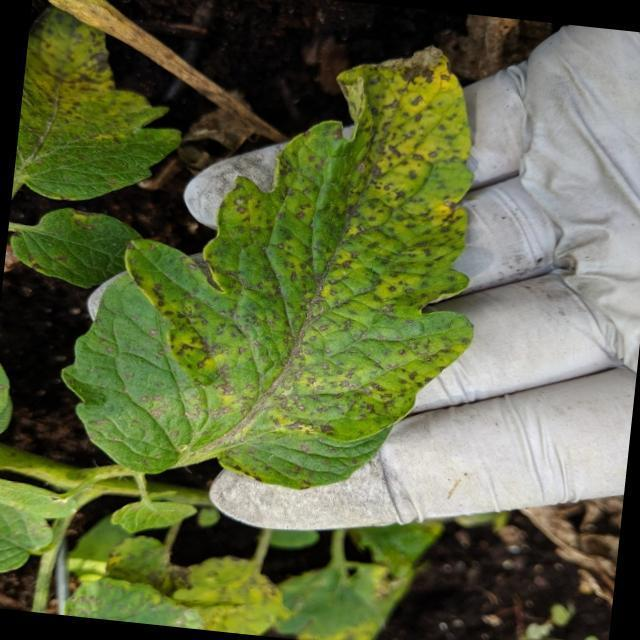Septoria: (150, 52, 477, 450)
